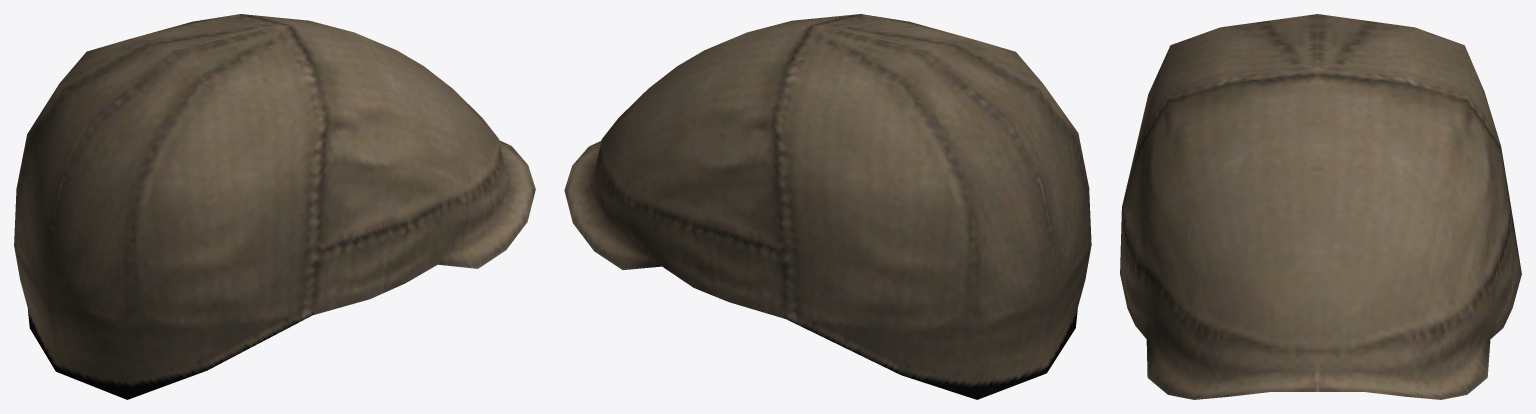
Rendered from hat_0450029.FBX.
3 views of the same model, side by side, from view 1: azimuth 30°, elevation 25°; view 2: azimuth 150°, elevation 25°; view 3: azimuth 270°, elevation 25° (orthographic). The views are drawn at different scales.
Parts seen in each view (by area): view 1: hat_0450029; view 2: hat_0450029; view 3: hat_0450029.
Boxes of the visible parts, left/top/right/bottom form: hat_0450029: left=14, top=14, right=535, bottom=399; hat_0450029: left=564, top=14, right=1091, bottom=399; hat_0450029: left=1120, top=14, right=1521, bottom=399.
Bounding box in the file's own units: 29.76 × 17.73 × 19.88.
